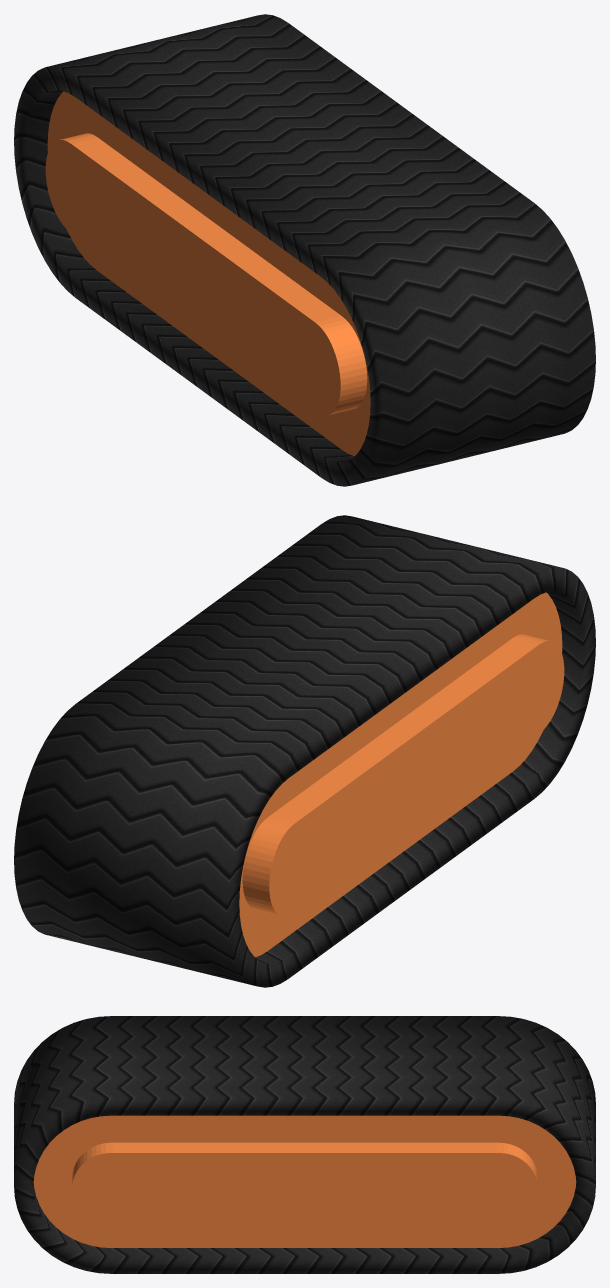
The model's file is Conveyor-1x3.fbx.
3 renders of one model, top to bottom at view 1: azimuth 30°, elevation 25°; view 2: azimuth 150°, elevation 25°; view 3: azimuth 270°, elevation 25°, orthographic. The views are drawn at different scales.
Parts seen in each view (by area): view 1: Conveyor; view 2: Conveyor; view 3: Conveyor.
Boxes of the visible parts, <box> form: Conveyor: <box>14,14,595,486</box>; Conveyor: <box>14,515,595,987</box>; Conveyor: <box>14,1016,595,1273</box>.
Size of the model in its own units: 1.05 by 1 by 3.
2 materials, 1 textured.
